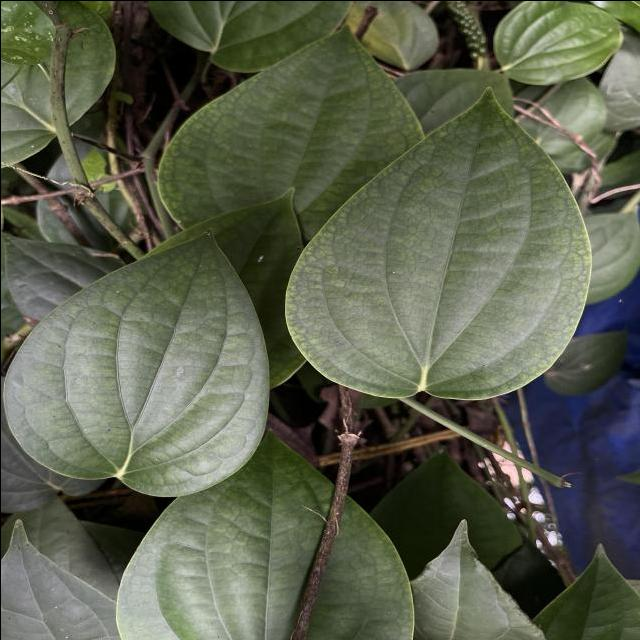Piper nigrum: (281, 84, 592, 403), (1, 222, 273, 500)
